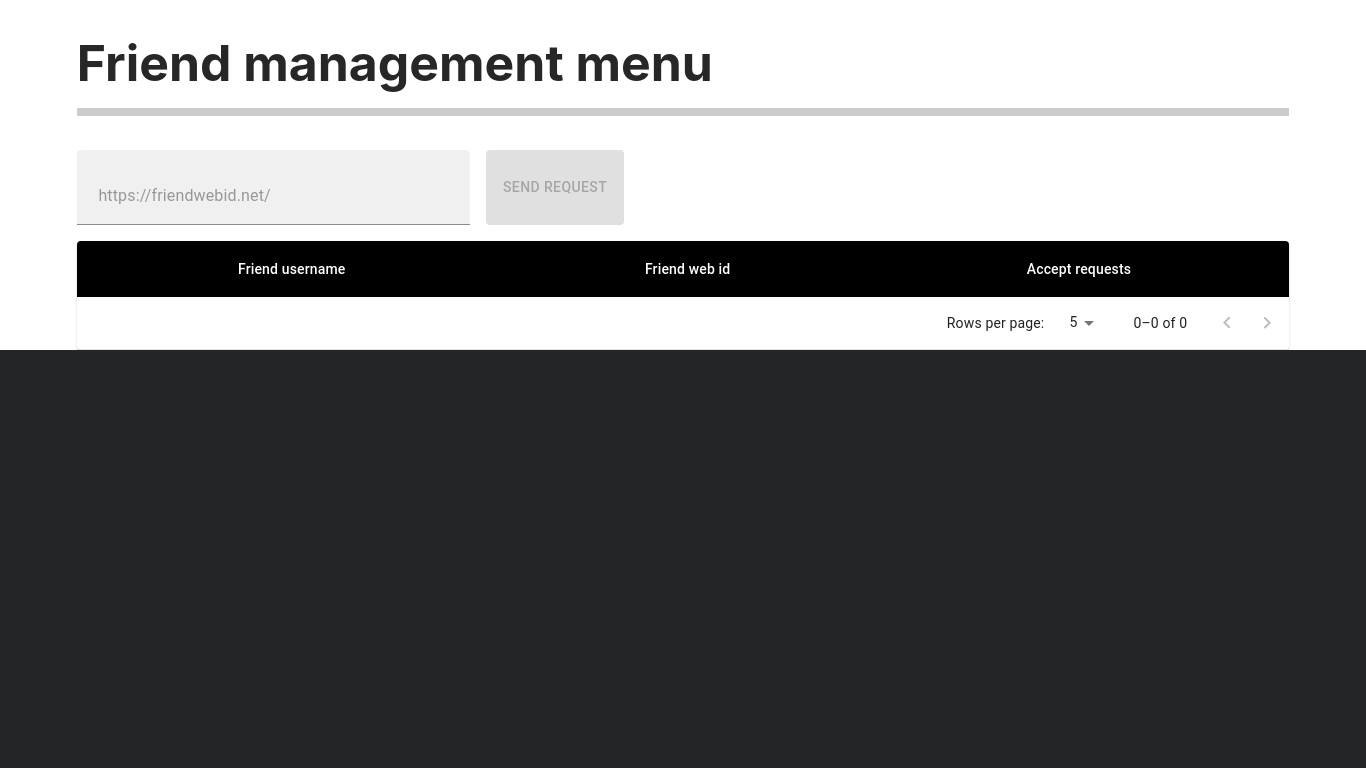
Test: check send request fail
Expected: the heading "Friend management menu" is shown, [77,33,1289,116]
Type "test" into the text box named "text" at (274, 196), box [89,175,458,217]
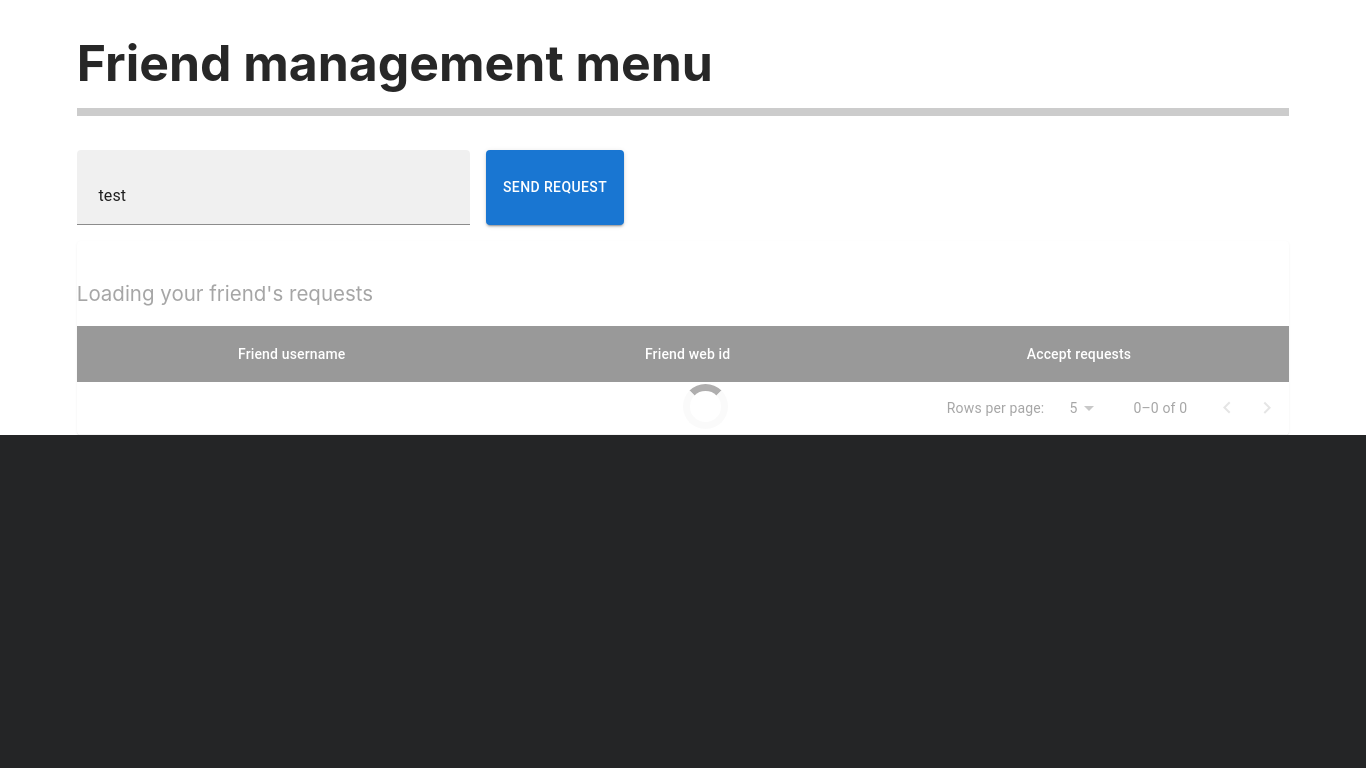
Click the button "Send request" at (555, 187), box [486,150,624,225]
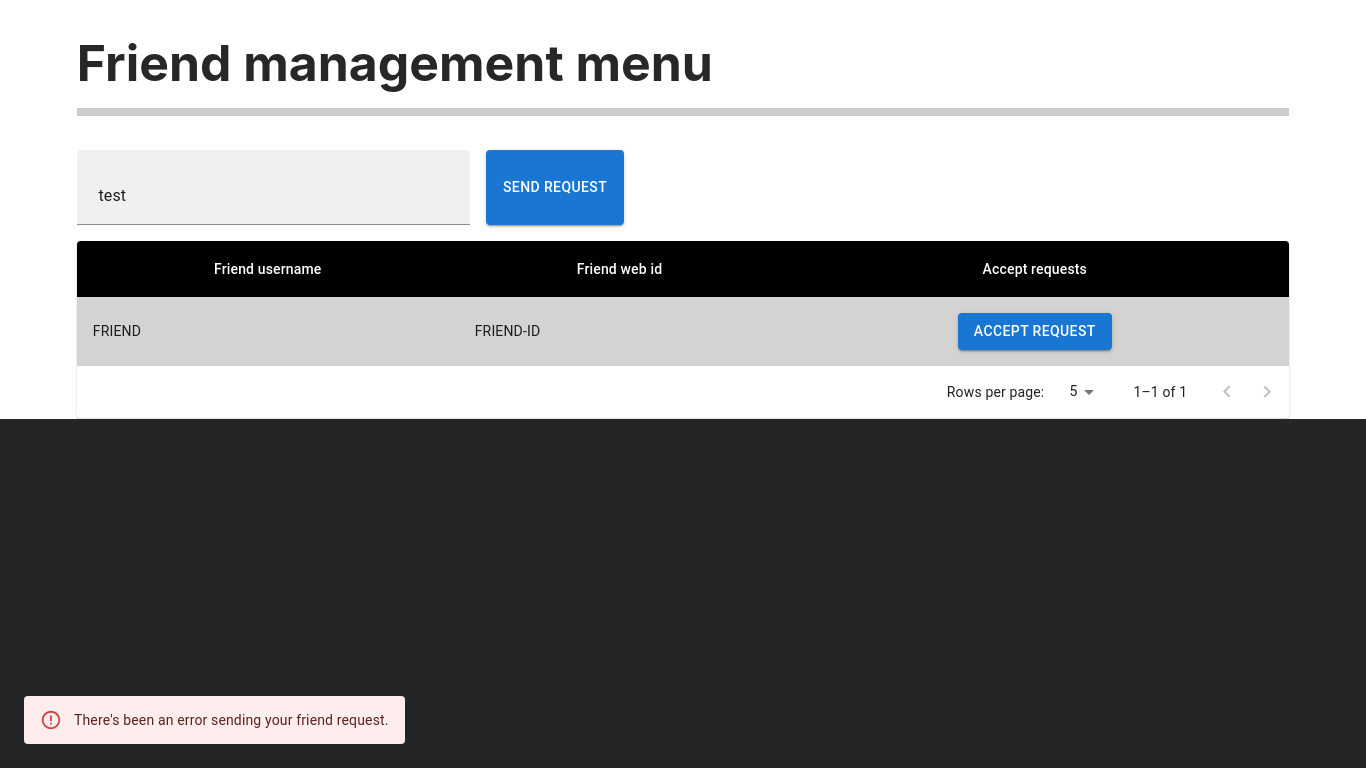
Result: the text "There's been an error sending your friend request." is shown at [74,712,389,728]
